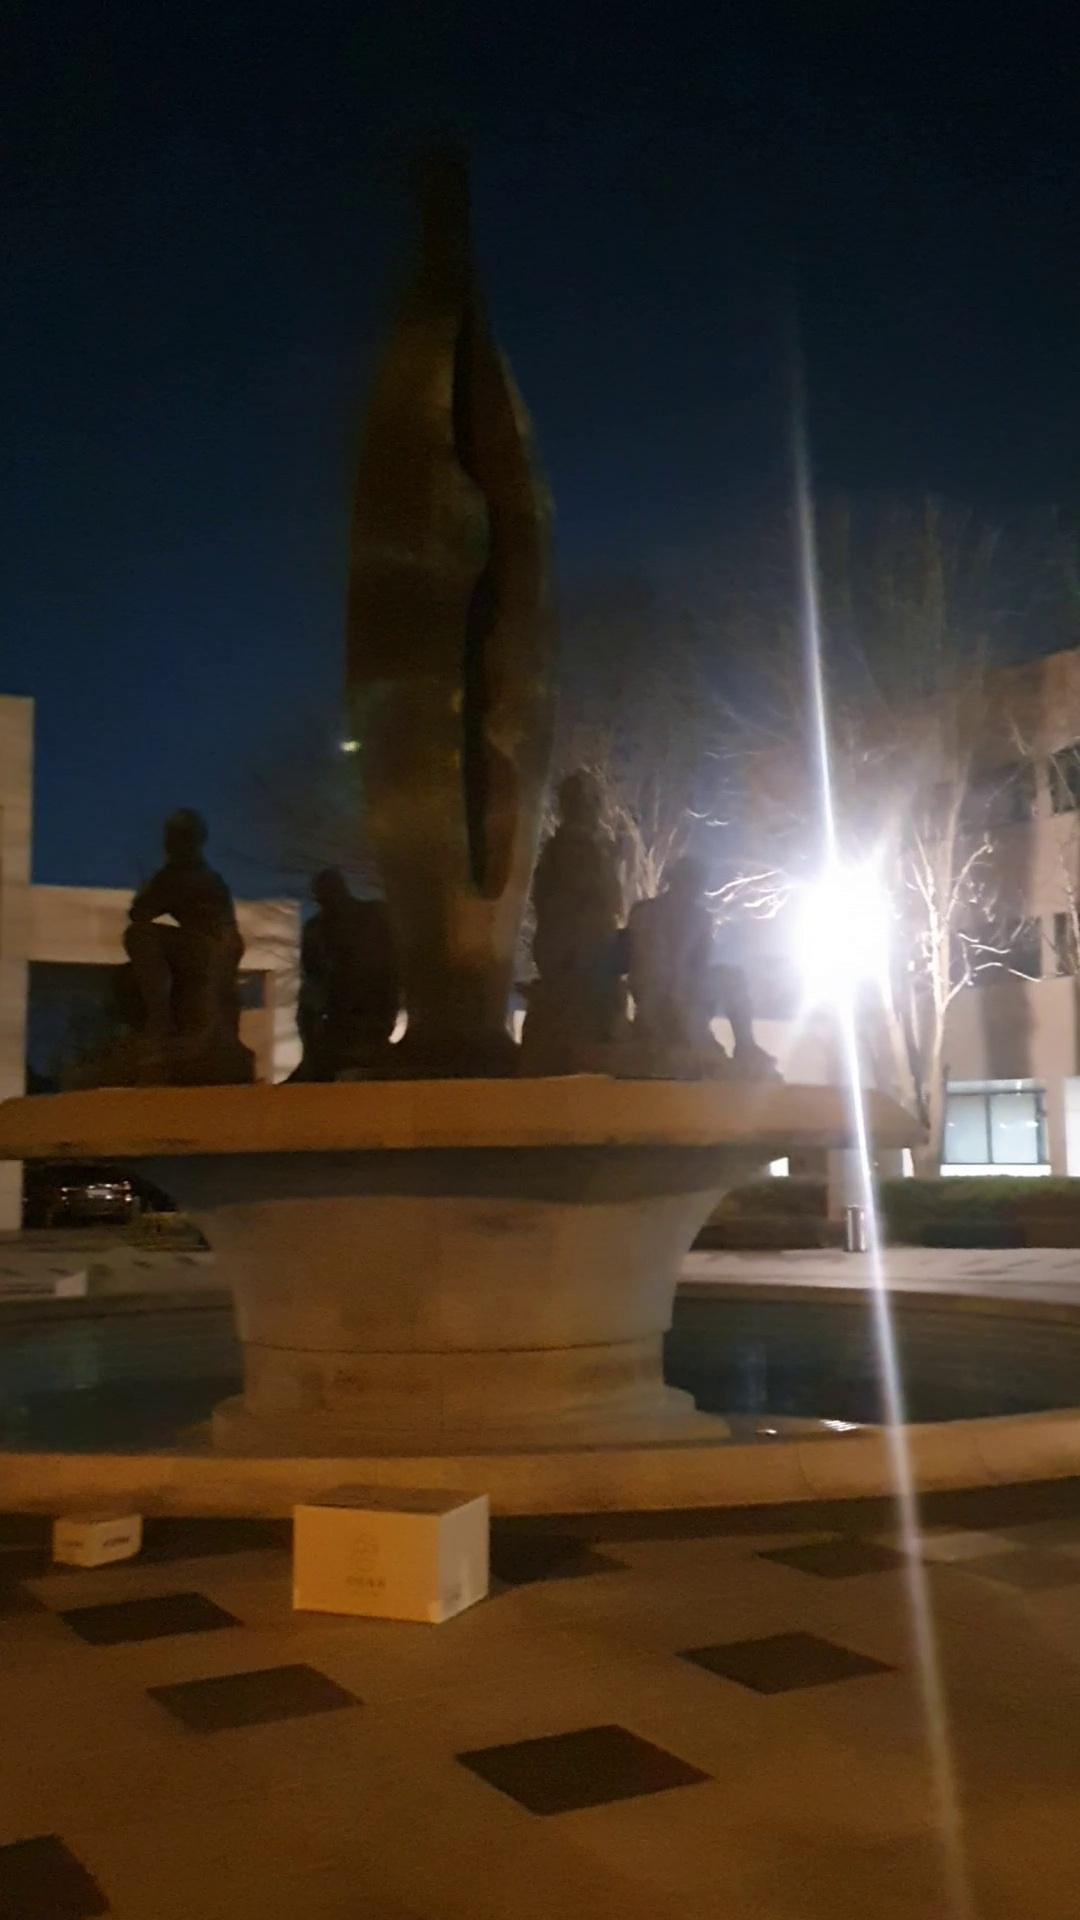Box: (268, 1470, 516, 1622), (38, 1503, 165, 1582)
